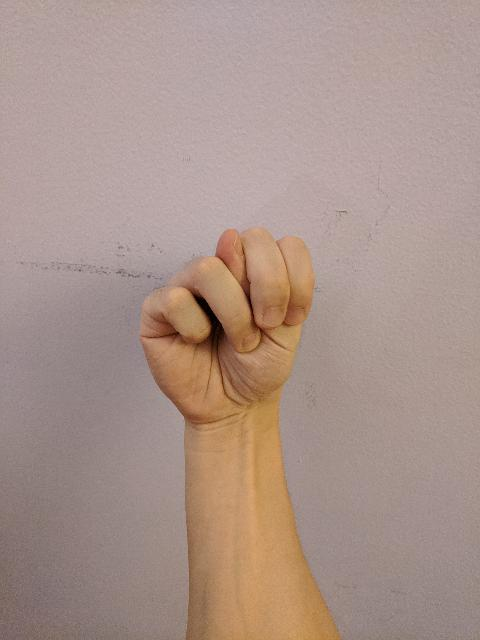N: (132, 222, 320, 428)
